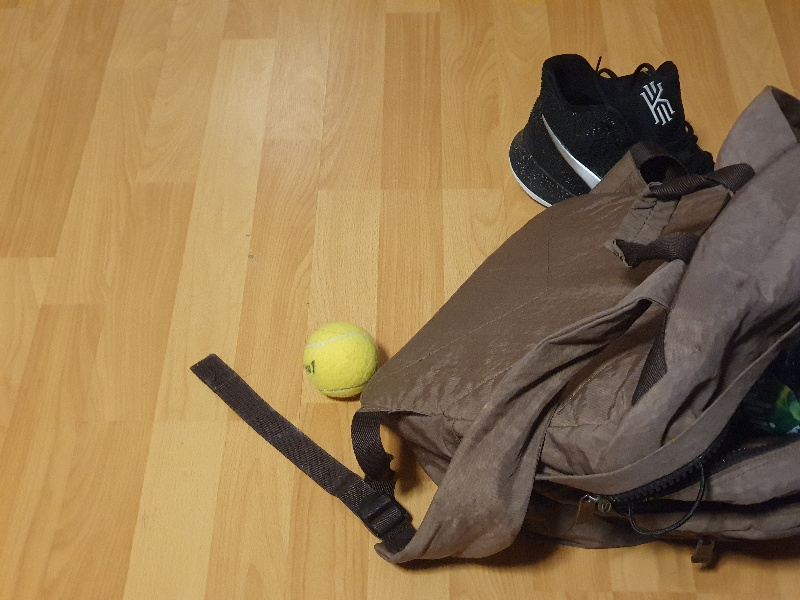Tennisball: (295, 317, 393, 406)
